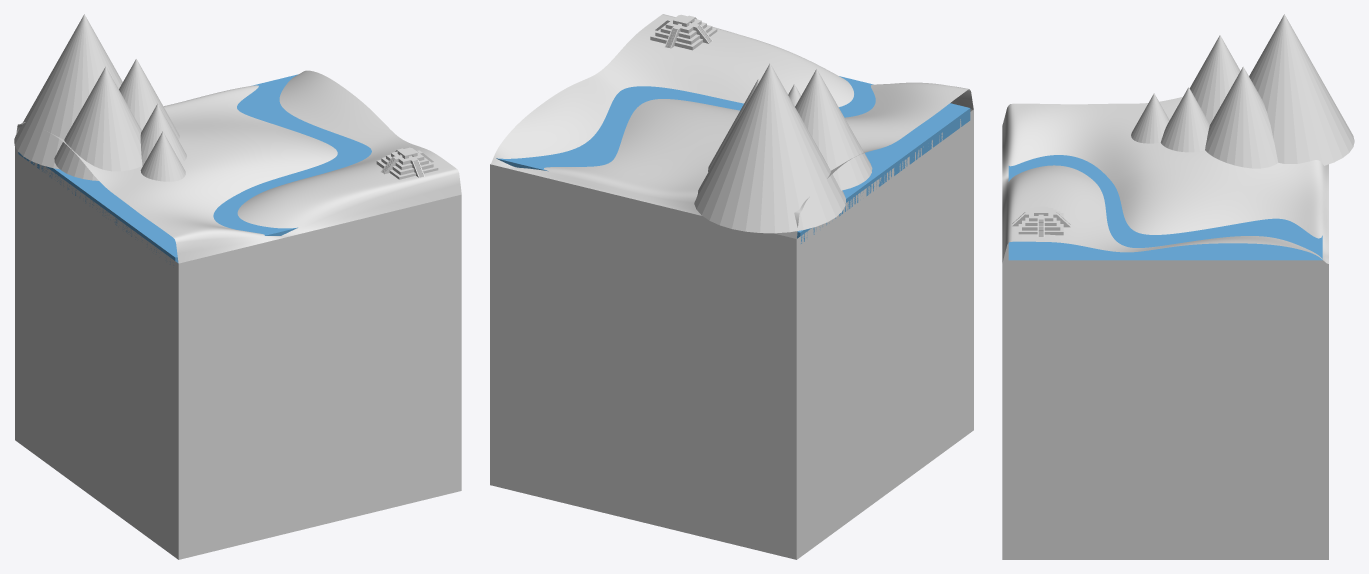
The model's file is world.fbx.
3 renders of one model, left to right at view 1: azimuth 30°, elevation 25°; view 2: azimuth 150°, elevation 25°; view 3: azimuth 270°, elevation 25°, orthographic. The views are drawn at different scales.
Parts seen in each view (by area): view 1: Cube, Landscape, water, Cone, Cone.002, Cone.001, Cone.004, Cone.003, Cube.001; view 2: Cube, Landscape, Cone, water, Cone.002, Cube.001; view 3: Cube, Landscape, water, Cone, Cone.001, Cone.002, Cone.003, Cone.004, Cube.001.
Boxes of the visible parts, bbox=[...] form: Cube: bbox=[15, 146, 461, 559]; Landscape: bbox=[16, 70, 461, 263]; water: bbox=[18, 74, 371, 265]; Cone: bbox=[14, 14, 122, 169]; Cone.002: bbox=[54, 66, 142, 180]; Cone.001: bbox=[119, 59, 179, 139]; Cone.004: bbox=[140, 131, 185, 181]; Cone.003: bbox=[140, 103, 186, 165]; Cube.001: bbox=[376, 147, 438, 179]; Cube: bbox=[490, 109, 973, 559]; Landscape: bbox=[490, 14, 973, 238]; Cone: bbox=[694, 63, 845, 233]; water: bbox=[496, 76, 970, 243]; Cone.002: bbox=[795, 69, 872, 190]; Cube.001: bbox=[650, 14, 717, 50]; Cube: bbox=[1002, 243, 1328, 559]; Landscape: bbox=[1002, 97, 1328, 263]; water: bbox=[1008, 155, 1322, 260]; Cone: bbox=[1249, 14, 1354, 165]; Cone.001: bbox=[1205, 66, 1278, 168]; Cone.002: bbox=[1189, 35, 1240, 124]; Cone.003: bbox=[1160, 87, 1209, 152]; Cone.004: bbox=[1131, 93, 1169, 143]; Cube.001: bbox=[1018, 206, 1063, 235].
Bounding box in the file's own units: 210 × 291 × 216.
